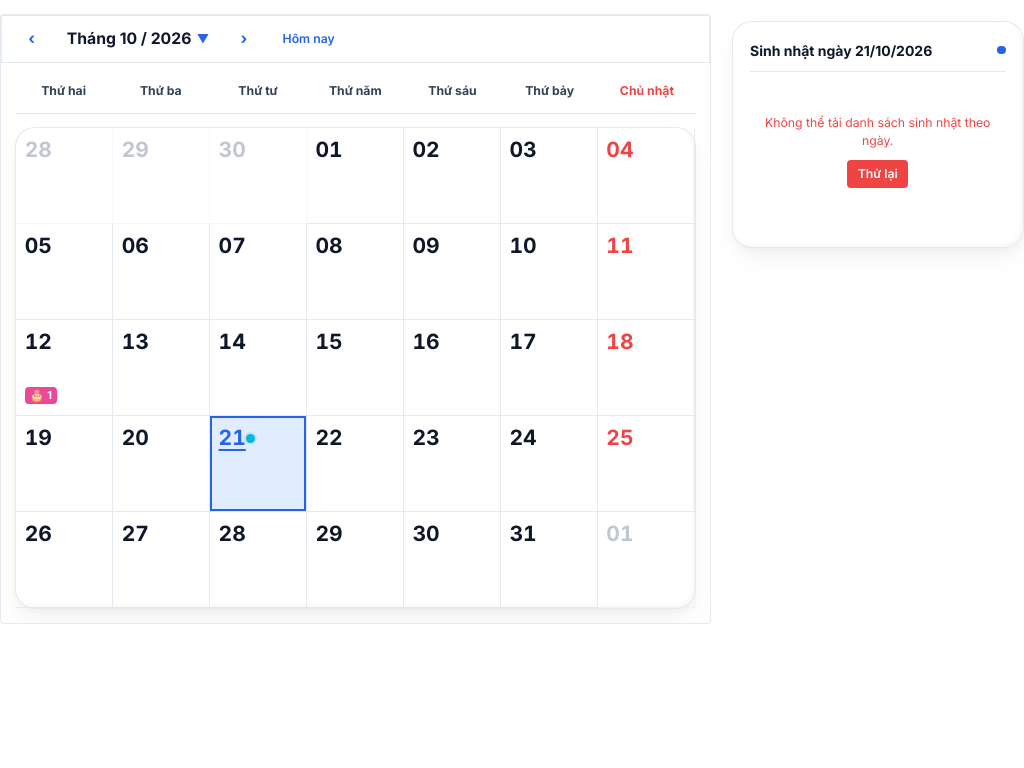
Scenario: BirthdayPage › distinguishes an empty day from a failed day request and retries
This screenshot has width=1024, height=768.
Check: the text "Không thể tải danh sách sinh nhật theo ngày." is shown, box left=750, top=114, right=1006, bottom=149
Check: the text "Không có cán bộ nhân viên nào sinh vào ngày này." is not shown
Click the button "Thử lại": (878, 174) left=847, top=160, right=908, bottom=188
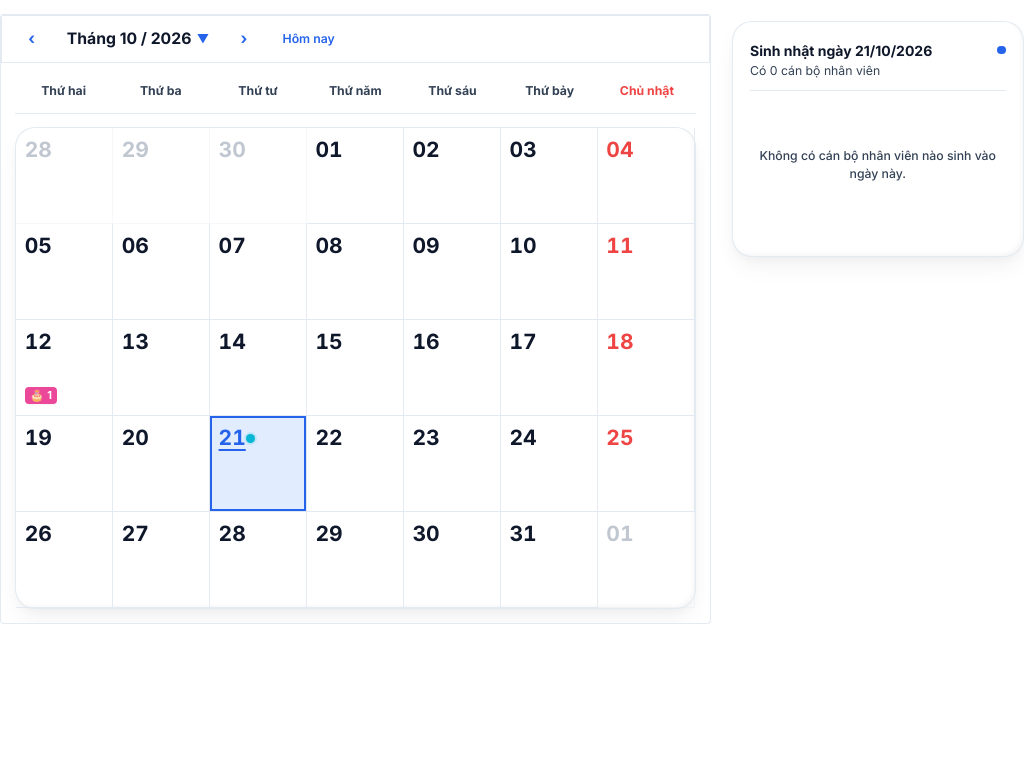
Check: the text "Không có cán bộ nhân viên nào sinh vào ngày này." is shown, box left=750, top=147, right=1006, bottom=182
